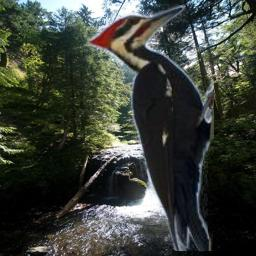Woodpecker: (84, 4, 214, 251)
